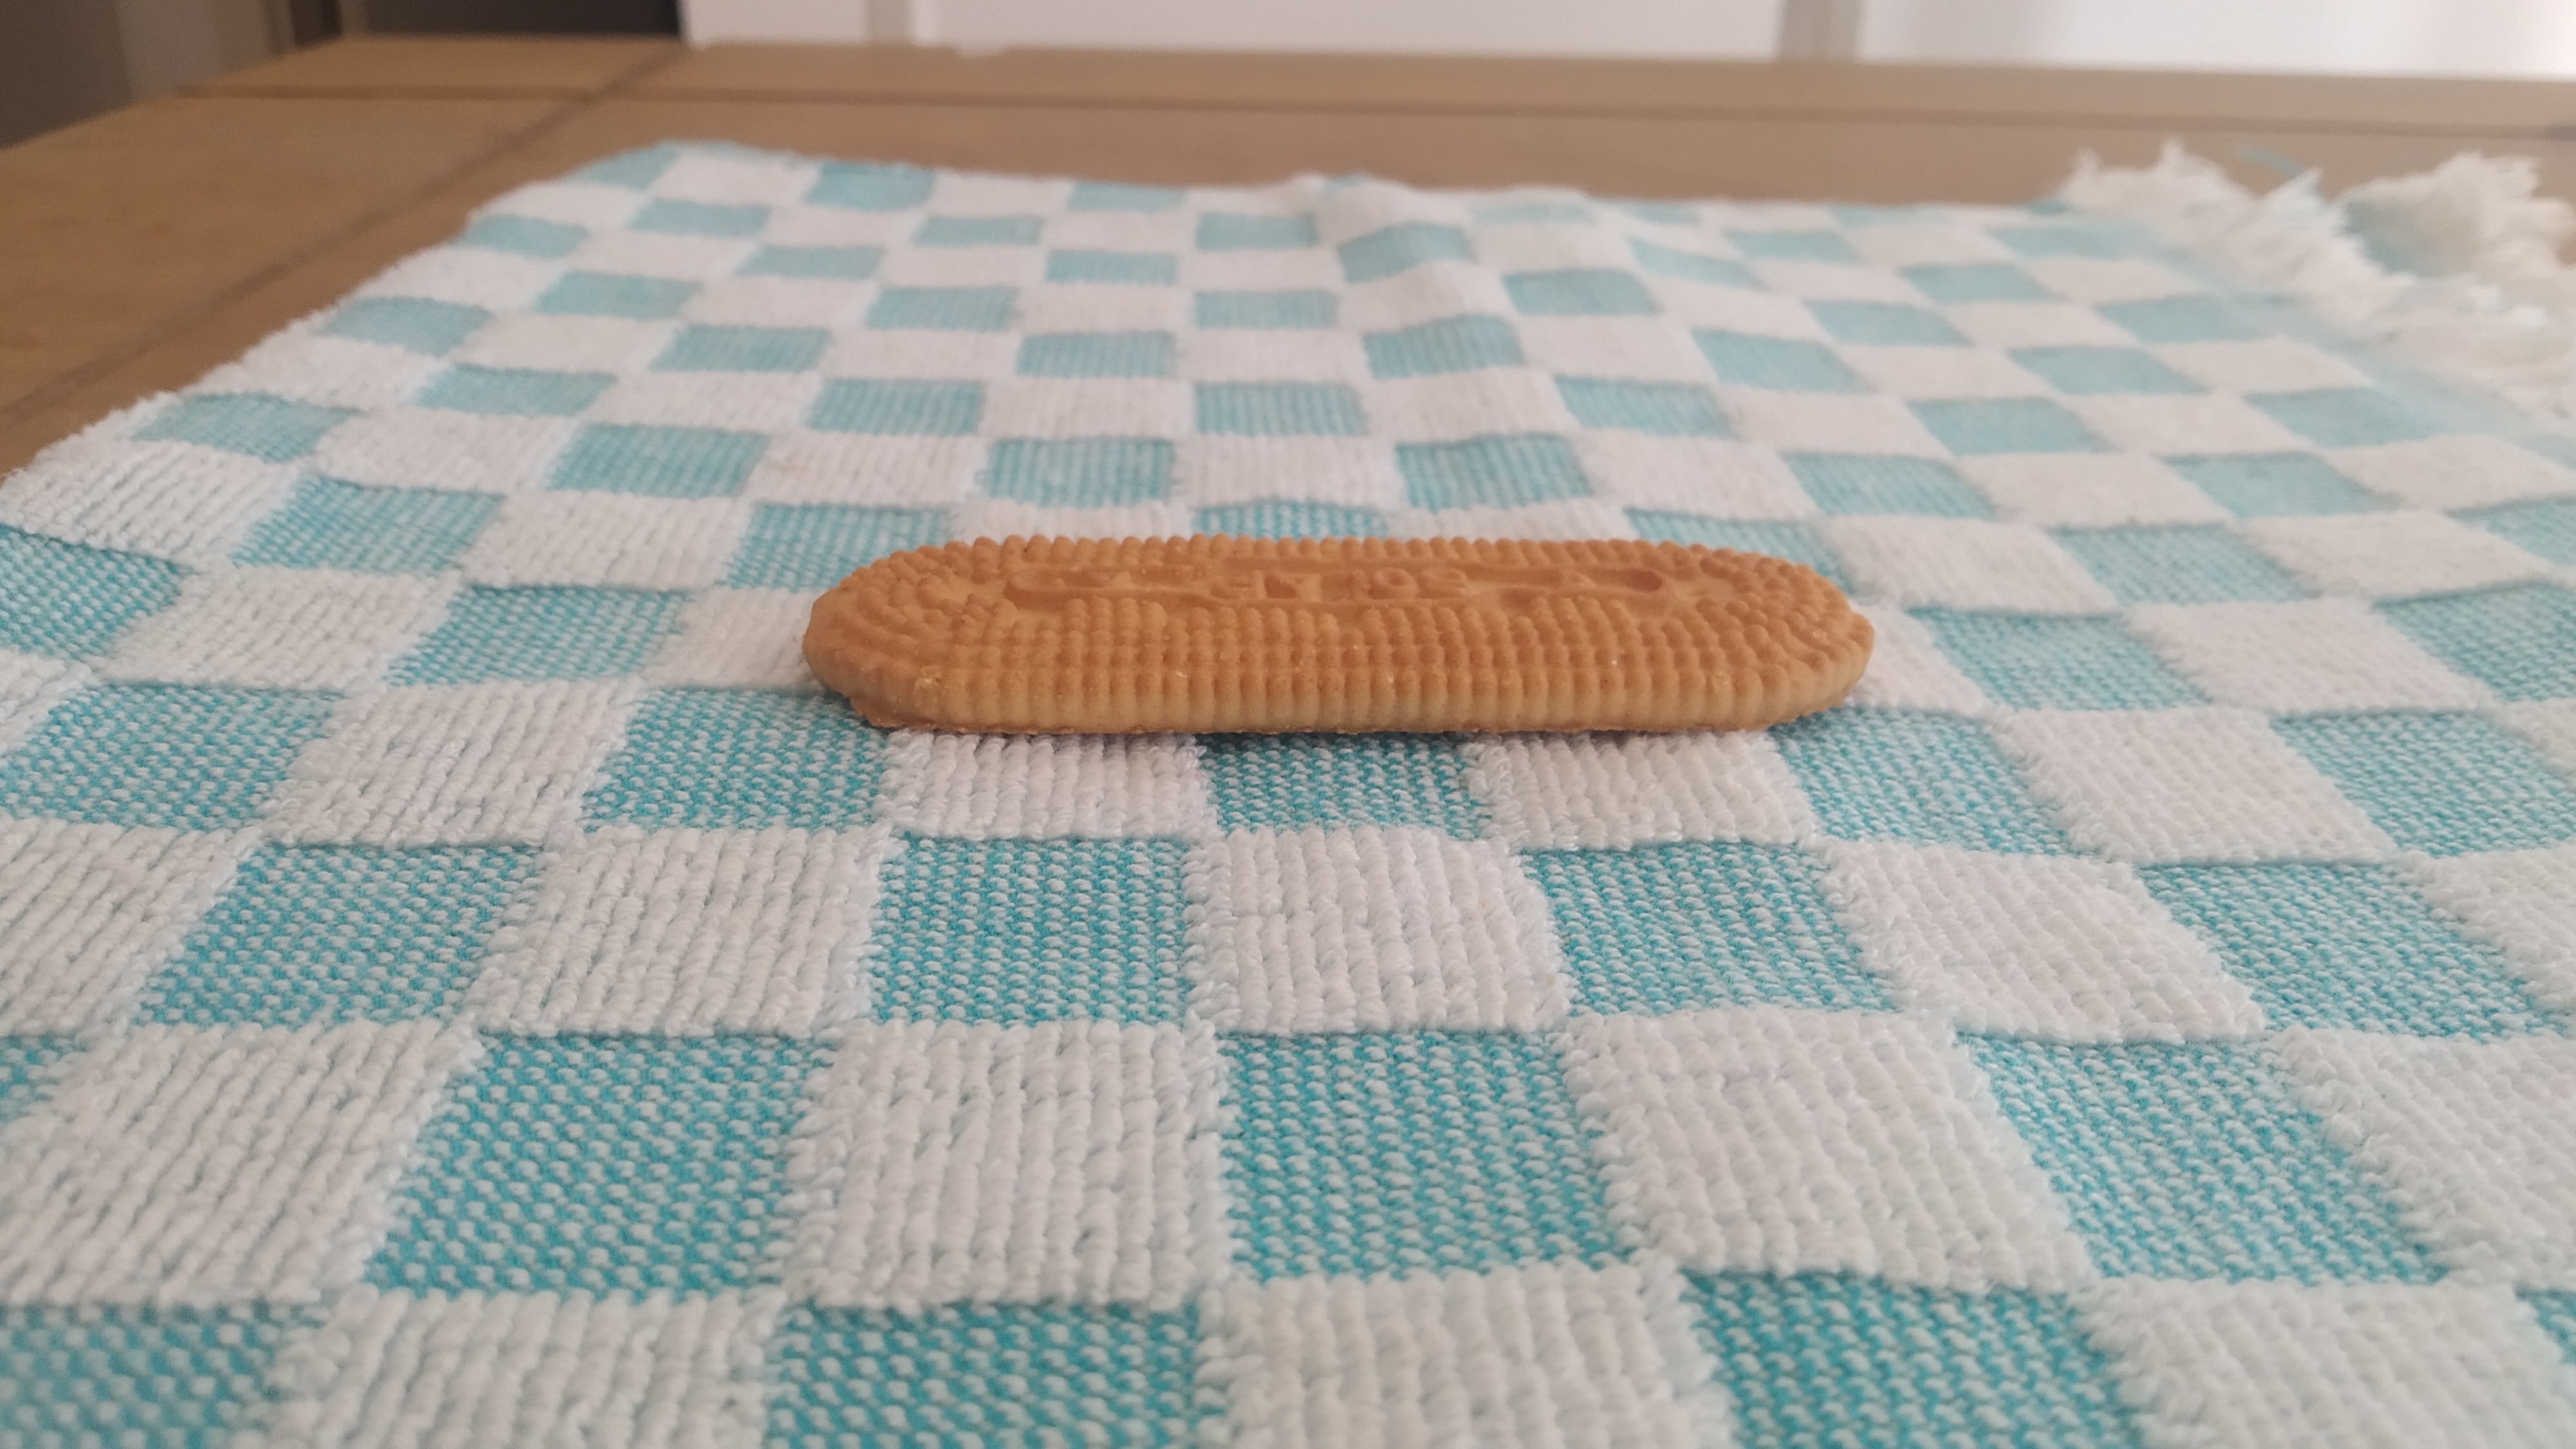solar: (803, 533, 1875, 736)
